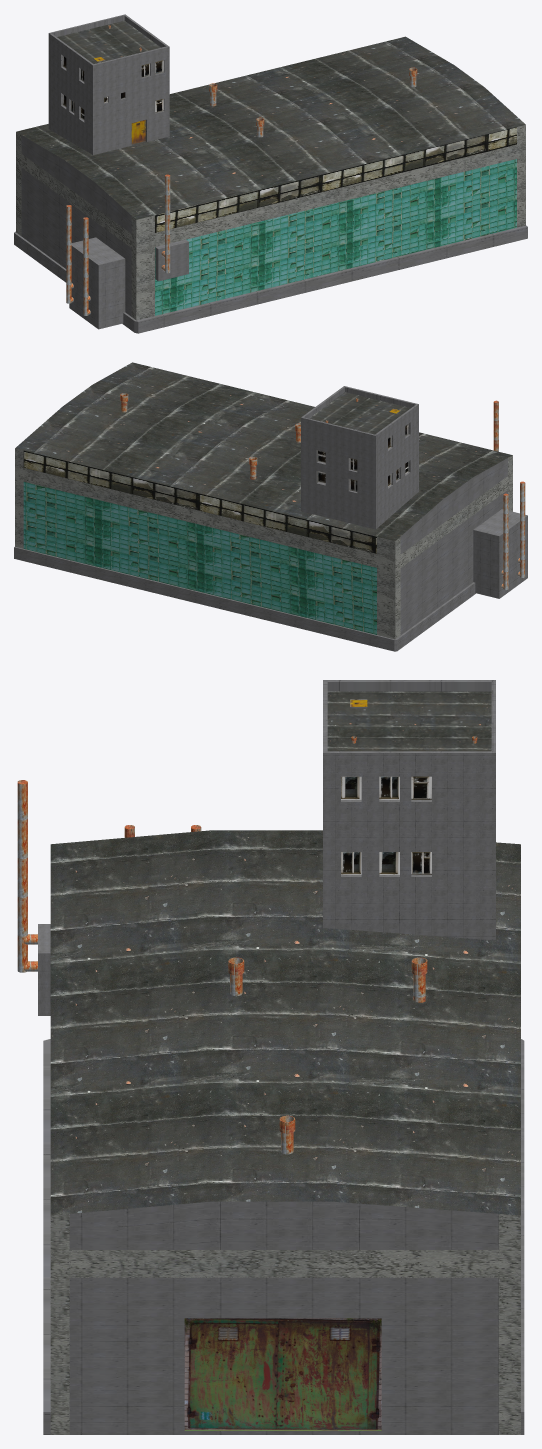
File: Laba_001.fbx
3 views of the same model, one above another, from view 1: azimuth 30°, elevation 25°; view 2: azimuth 150°, elevation 25°; view 3: azimuth 270°, elevation 25° (orthographic). The views are drawn at different scales.
Visible parts, largest first — view 1: Stroenie_laba_001; view 2: Stroenie_laba_001; view 3: Stroenie_laba_001.
Boxes of the visible parts, box(x1,y1,x2,y2) form: Stroenie_laba_001: box(14, 14, 527, 333); Stroenie_laba_001: box(14, 362, 527, 651); Stroenie_laba_001: box(17, 680, 524, 1434).
Bounding box in the file's own units: 550 × 261 × 293.
